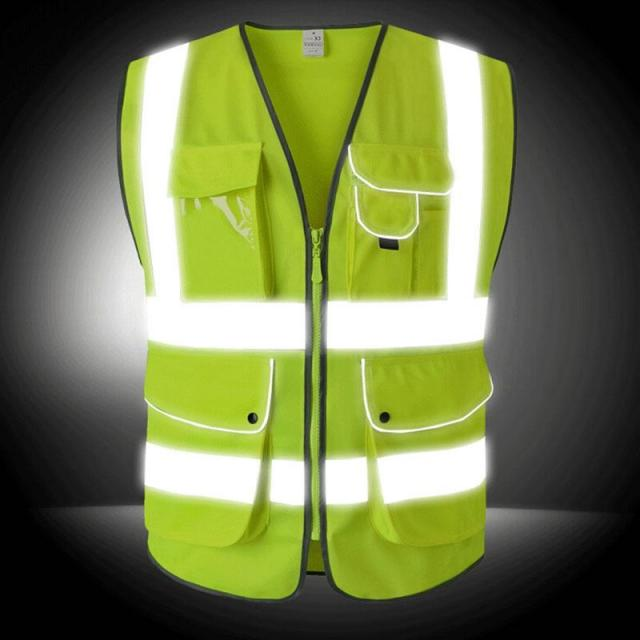Reflective-Jacket: (95, 2, 535, 615)
